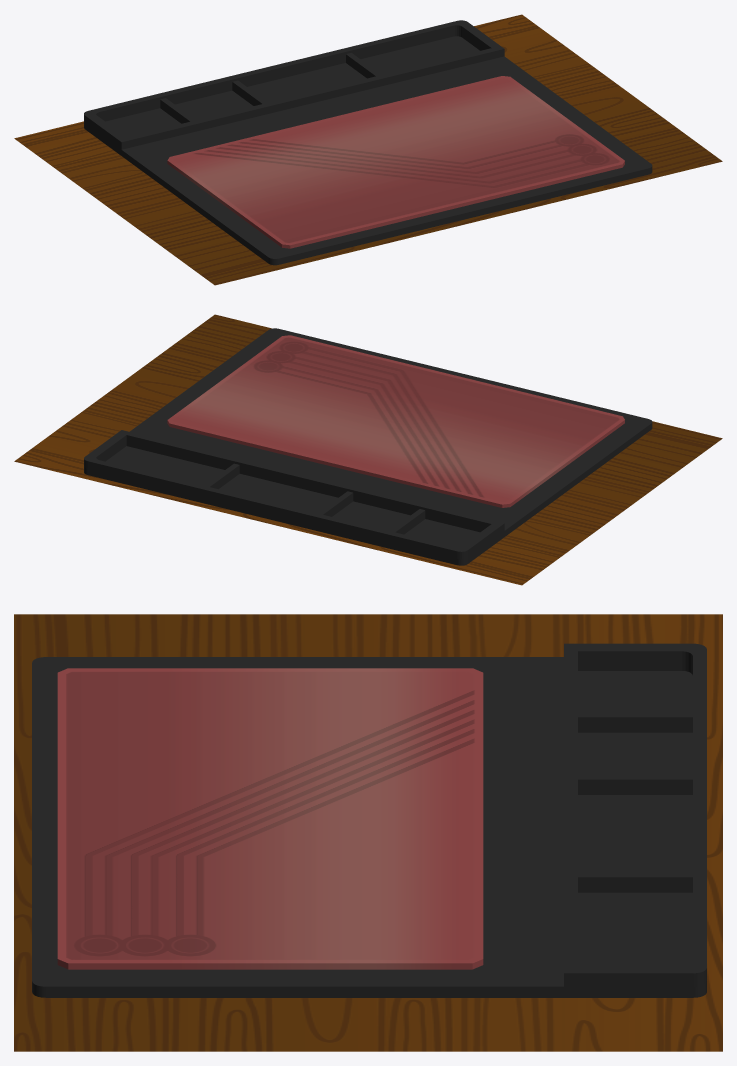
File: ST_stage_R.fbx
The picture shows the model from 3 angles, top to bottom: view 1: azimuth 30°, elevation 25°; view 2: azimuth 150°, elevation 25°; view 3: azimuth 270°, elevation 25°; orthographic projection. The views are drawn at different scales.
Visible parts, largest first — view 1: stage, pCube1, table; view 2: stage, pCube1, table; view 3: stage, pCube1, table, pCube8, pCube7, pCube6.
Part boxes in pixels (x1=…): stage: x1=167, y1=76, x2=624, y2=248; pCube1: x1=84, y1=20, x2=652, y2=265; table: x1=14, y1=14, x2=722, y2=285; stage: x1=167, y1=335, x2=624, y2=507; pCube1: x1=84, y1=328, x2=652, y2=565; table: x1=14, y1=314, x2=722, y2=585; stage: x1=57, y1=668, x2=483, y2=969; pCube1: x1=32, y1=643, x2=706, y2=997; table: x1=14, y1=614, x2=722, y2=1051; pCube8: x1=578, y1=872, x2=692, y2=892; pCube7: x1=578, y1=774, x2=692, y2=794; pCube6: x1=578, y1=712, x2=692, y2=732.
Bounding box in the file's own units: 49.26 × 1.29 × 33.75.
Materials: 3 (3 with a texture image).
